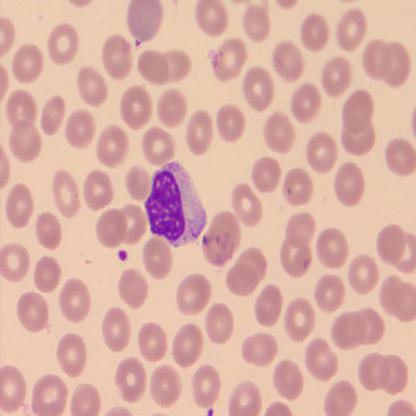Metamyelocyte: (143, 157, 209, 250)
